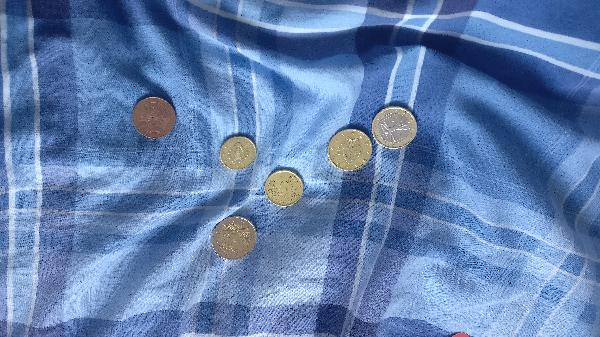Fifty Cent: (327, 127, 371, 169)
Five Cent: (133, 96, 176, 139)
One Euro: (371, 107, 417, 149)
Ten Cent: (220, 134, 260, 171)
Twenty Cent: (265, 169, 305, 208)
Two Euro: (208, 216, 262, 262)
